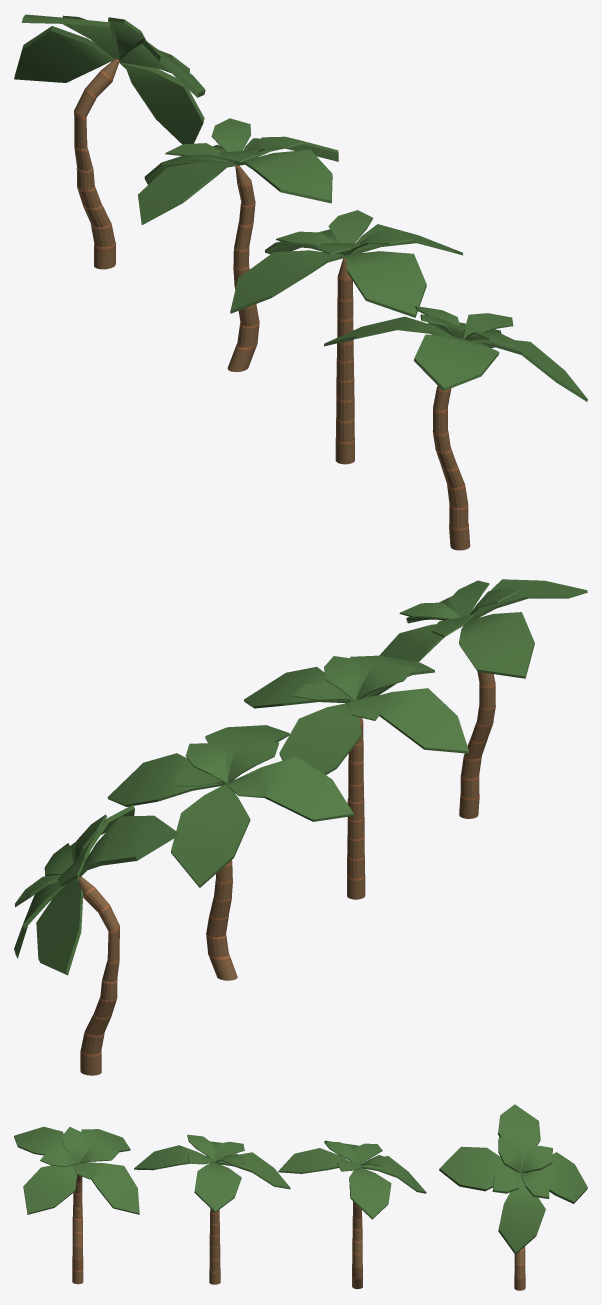
Rendered from Tress.fbx.
3 renders of one model, top to bottom at view 1: azimuth 30°, elevation 25°; view 2: azimuth 150°, elevation 25°; view 3: azimuth 270°, elevation 25°, orthographic. The views are drawn at different scales.
Visible parts, largest first — view 1: Tronco5, Tronco8, Tronco6, Tronco7; view 2: Tronco6, Tronco8, Tronco5, Tronco7; view 3: Tronco5, Tronco7, Tronco8, Tronco6.
Part boxes in pixels (x1,y1,x2,y2): Tronco5: (14, 14, 205, 269); Tronco8: (230, 210, 463, 464); Tronco6: (138, 118, 338, 371); Tronco7: (324, 306, 587, 550); Tronco6: (107, 725, 354, 980); Tronco8: (244, 655, 469, 899); Tronco5: (14, 805, 178, 1075); Tronco7: (368, 579, 587, 818); Tronco5: (439, 1104, 587, 1290); Tronco7: (14, 1126, 139, 1284); Tronco8: (134, 1134, 290, 1284); Tronco6: (278, 1140, 426, 1289).
Bounding box in the file's own units: 17 × 18.01 × 58.92.
